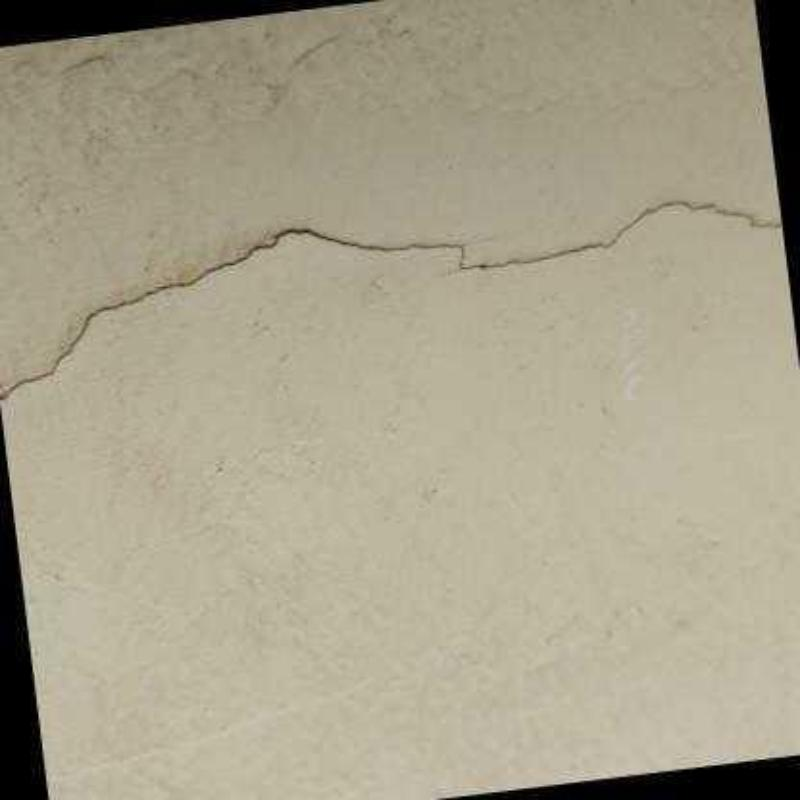crack: (3, 202, 784, 399)
